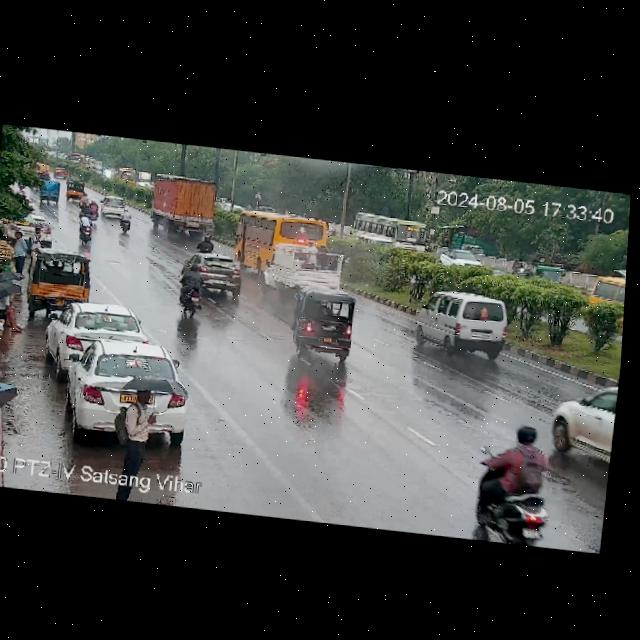bus: (229, 205, 351, 299), (352, 216, 437, 257), (584, 274, 626, 314)
car: (57, 337, 179, 434), (415, 285, 518, 358), (543, 373, 619, 466), (49, 298, 148, 367), (289, 283, 367, 365), (25, 248, 95, 309), (183, 250, 248, 294), (98, 195, 132, 221), (64, 178, 88, 201)
motorcycle: (466, 420, 562, 547), (174, 264, 209, 320), (76, 191, 100, 220), (77, 215, 101, 244), (194, 234, 222, 253), (118, 209, 138, 234)
person: (112, 383, 159, 474), (0, 397, 15, 486), (0, 293, 29, 333), (10, 227, 33, 274), (30, 226, 44, 250)
truck: (150, 173, 228, 238), (262, 241, 348, 298)
